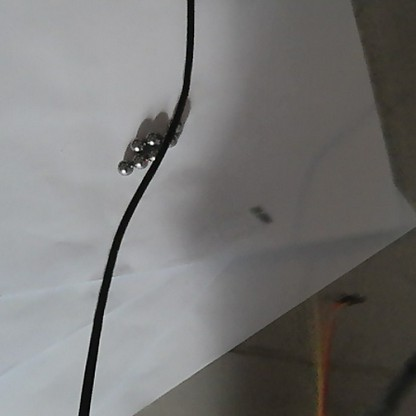ironball: (130, 149, 149, 169), (116, 159, 135, 178), (145, 145, 160, 163), (167, 119, 181, 136), (165, 132, 179, 149), (144, 131, 161, 145), (129, 135, 144, 150)
